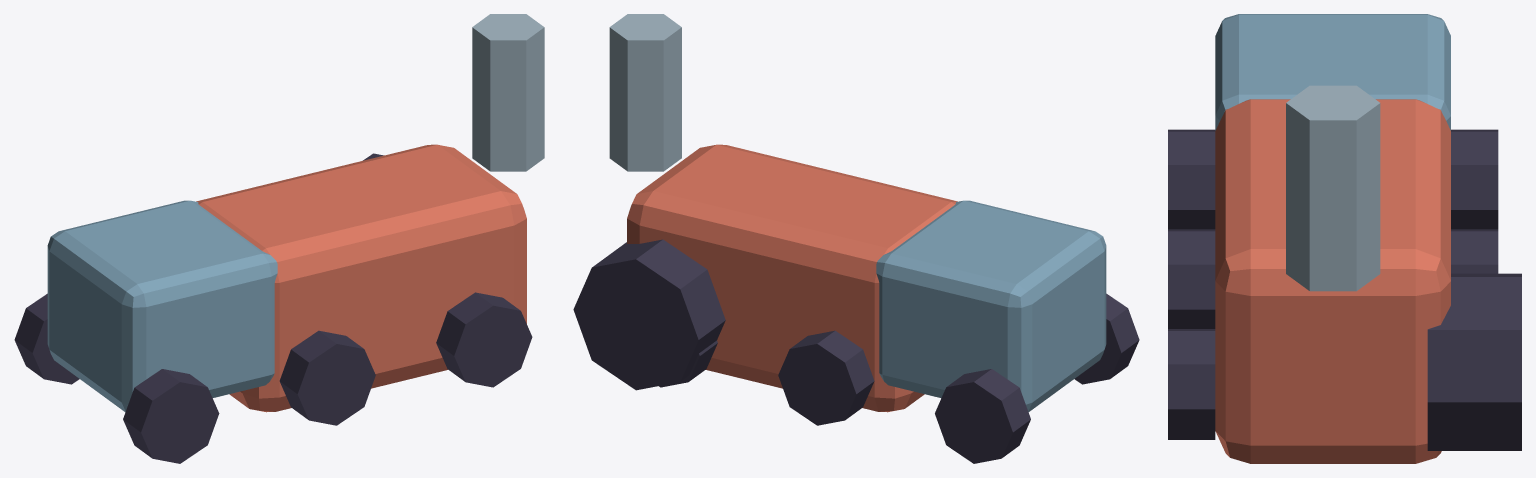
File: toy_train.glb
The picture shows the model from 3 angles, left to right: view 1: azimuth 30°, elevation 25°; view 2: azimuth 150°, elevation 25°; view 3: azimuth 270°, elevation 25°; orthographic projection. The views are drawn at different scales.
Visible parts, largest first — view 1: toy_train; view 2: toy_train; view 3: toy_train.
Boxes of the visible parts, x1,y1,x2,y2 form: toy_train: [14, 14, 544, 463]; toy_train: [573, 14, 1139, 463]; toy_train: [1168, 14, 1521, 463].
Bounding box in the file's own units: 0.2923 × 0.18 × 0.15.
